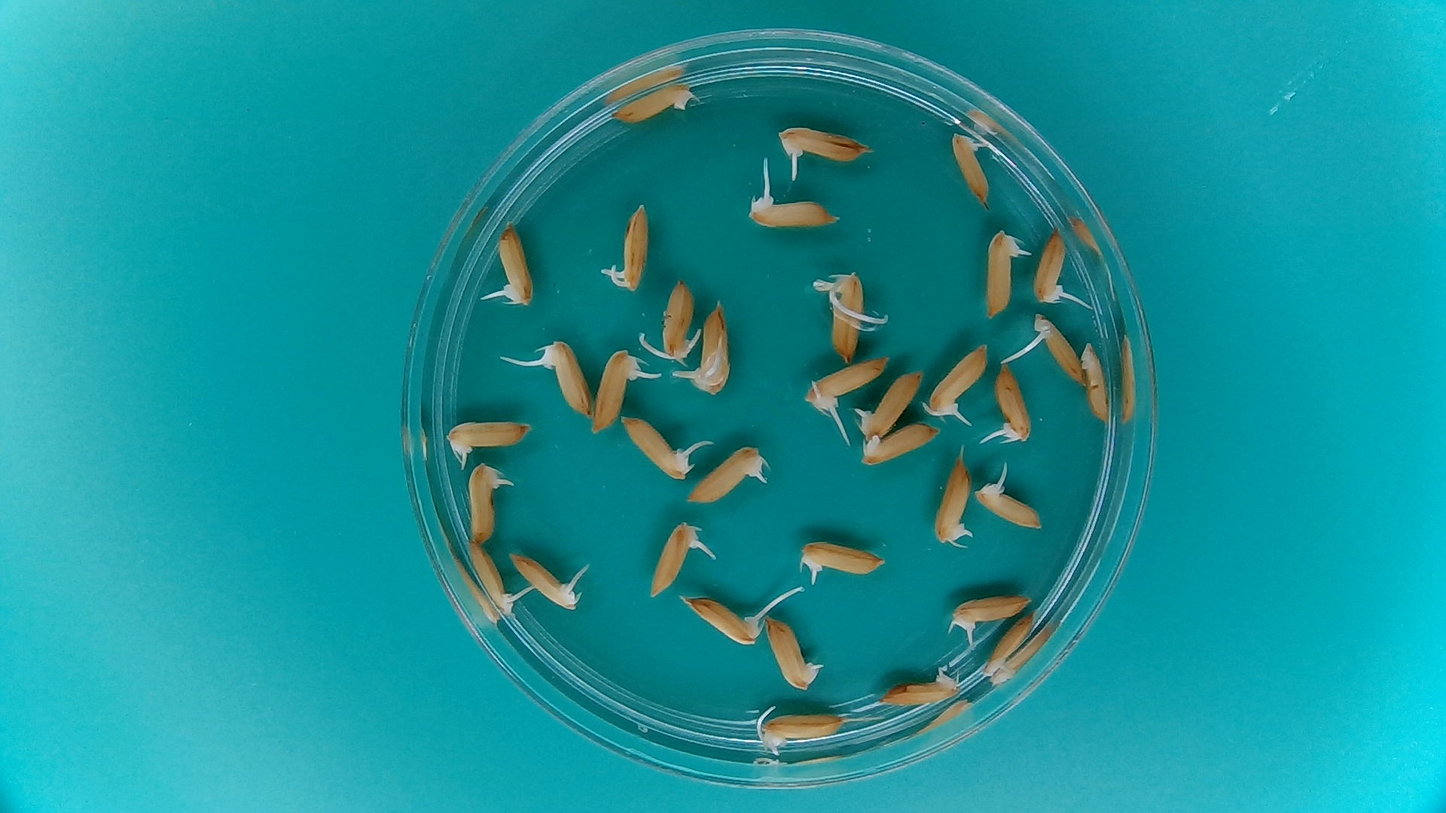no: (978, 608, 1038, 675), (611, 82, 693, 126), (861, 422, 940, 467), (874, 671, 959, 708), (1081, 340, 1112, 428)
yes: (619, 411, 698, 480), (804, 353, 891, 413), (857, 369, 925, 443), (927, 341, 991, 418), (685, 443, 762, 506), (687, 590, 770, 647), (588, 346, 640, 435), (929, 450, 975, 549), (509, 551, 579, 612), (464, 538, 518, 617), (822, 266, 865, 364), (690, 303, 736, 394), (646, 521, 700, 598), (1035, 313, 1088, 391), (764, 614, 816, 693), (947, 589, 1036, 634), (796, 537, 881, 583), (972, 483, 1047, 532), (546, 341, 593, 419), (949, 128, 993, 210), (776, 126, 865, 166), (612, 201, 651, 291), (743, 193, 837, 230), (442, 415, 531, 454), (464, 464, 506, 546), (757, 714, 845, 752), (984, 227, 1020, 317), (496, 221, 533, 306), (995, 362, 1033, 444), (660, 282, 697, 364), (1033, 230, 1072, 303)
